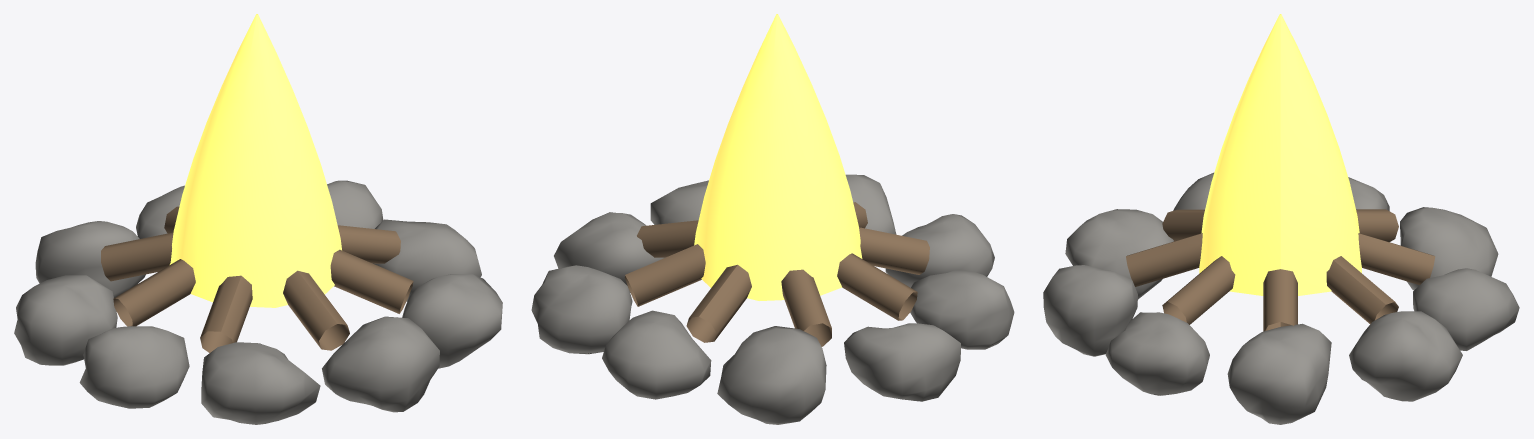
The model's file is Campfire.glb.
The picture shows the model from 3 angles, left to right: view 1: azimuth 30°, elevation 25°; view 2: azimuth 150°, elevation 25°; view 3: azimuth 270°, elevation 25°; orthographic projection. The views are drawn at different scales.
Visible parts, largest first — view 1: Fire_stones, Fire_flame, Fire_logs; view 2: Fire_stones, Fire_flame, Fire_logs; view 3: Fire_stones, Fire_flame, Fire_logs.
Part boxes in pixels (x1,y1,x2,y2): Fire_stones: [14, 180, 502, 424]; Fire_flame: [169, 14, 341, 307]; Fire_logs: [101, 206, 413, 352]; Fire_stones: [531, 174, 1014, 424]; Fire_flame: [694, 14, 862, 300]; Fire_logs: [624, 202, 929, 346]; Fire_stones: [1043, 172, 1519, 424]; Fire_flame: [1199, 14, 1361, 295]; Fire_logs: [1126, 209, 1435, 331].
Size of the model in its own units: 0.9481 by 0.7142 by 0.9577.
